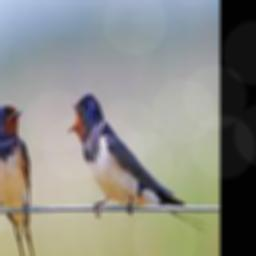Swallow: (65, 92, 206, 231), (0, 101, 33, 256)
